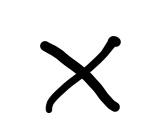mult: (40, 36, 121, 112)
